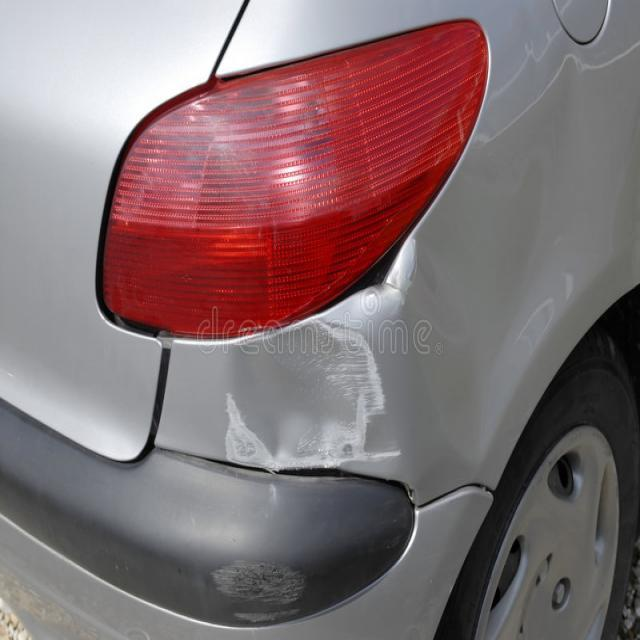car damage: (408, 55, 637, 476), (223, 312, 391, 479), (354, 225, 415, 321)
